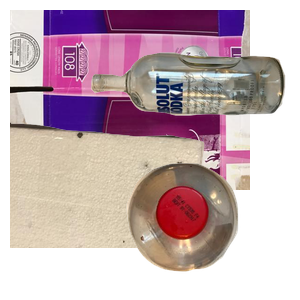cardboard: (10, 10, 250, 190)
glass: (88, 50, 300, 158)
plastic: (124, 161, 300, 300)
trash: (10, 120, 207, 300)
